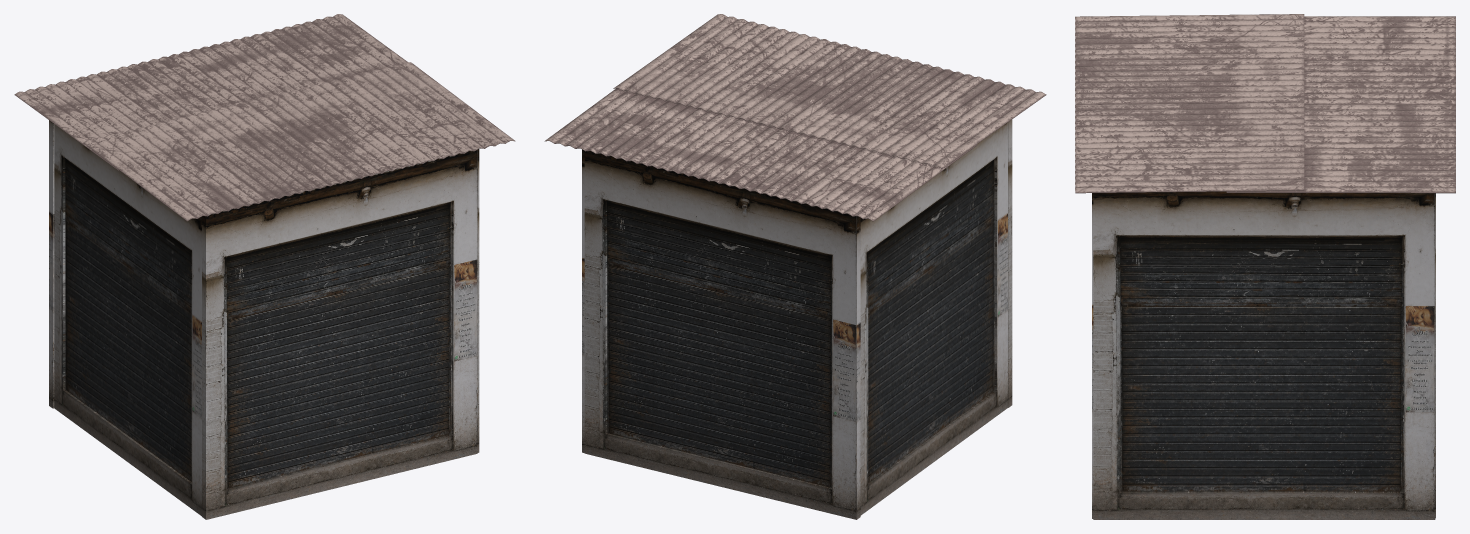
The model's file is casa_derecha_02.fbx.
The picture shows the model from 3 angles, left to right: view 1: azimuth 30°, elevation 25°; view 2: azimuth 150°, elevation 25°; view 3: azimuth 270°, elevation 25°; orthographic projection. The views are drawn at different scales.
Parts seen in each view (by area): view 1: casa_derecha_02.002, Techo 06.002, casa_derecha_02.003, casa_derecha_02.001, casa_derecha_02; view 2: casa_derecha_02.001, Techo 06.002, casa_derecha_02.003, casa_derecha_02.002, casa_derecha_02; view 3: casa_derecha_02, Techo 06.002, casa_derecha_02.002.
Boxes of the visible parts, left/top/right/bottom form: casa_derecha_02.002: left=202, top=150, right=477, bottom=519; Techo 06.002: left=14, top=14, right=515, bottom=221; casa_derecha_02.003: left=54, top=124, right=201, bottom=516; casa_derecha_02.001: left=49, top=120, right=54, bottom=408; casa_derecha_02: left=477, top=149, right=479, bottom=452; casa_derecha_02.001: left=584, top=151, right=860, bottom=519; Techo 06.002: left=544, top=14, right=1046, bottom=221; casa_derecha_02.003: left=860, top=122, right=1007, bottom=515; casa_derecha_02.002: left=1008, top=119, right=1012, bottom=407; casa_derecha_02: left=582, top=149, right=584, bottom=452; casa_derecha_02: left=1093, top=191, right=1435, bottom=519; Techo 06.002: left=1075, top=14, right=1455, bottom=193; casa_derecha_02.002: left=1092, top=193, right=1093, bottom=518.
Bounding box in the file's own units: 835 × 765 × 762.
